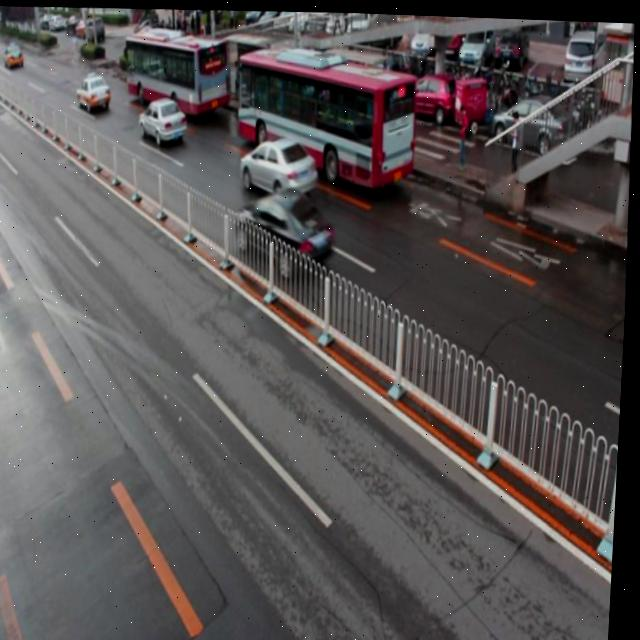car: (234, 184, 336, 275), (239, 131, 320, 201), (138, 94, 189, 145), (76, 72, 112, 113)
van: (234, 45, 419, 188), (124, 26, 229, 116)
